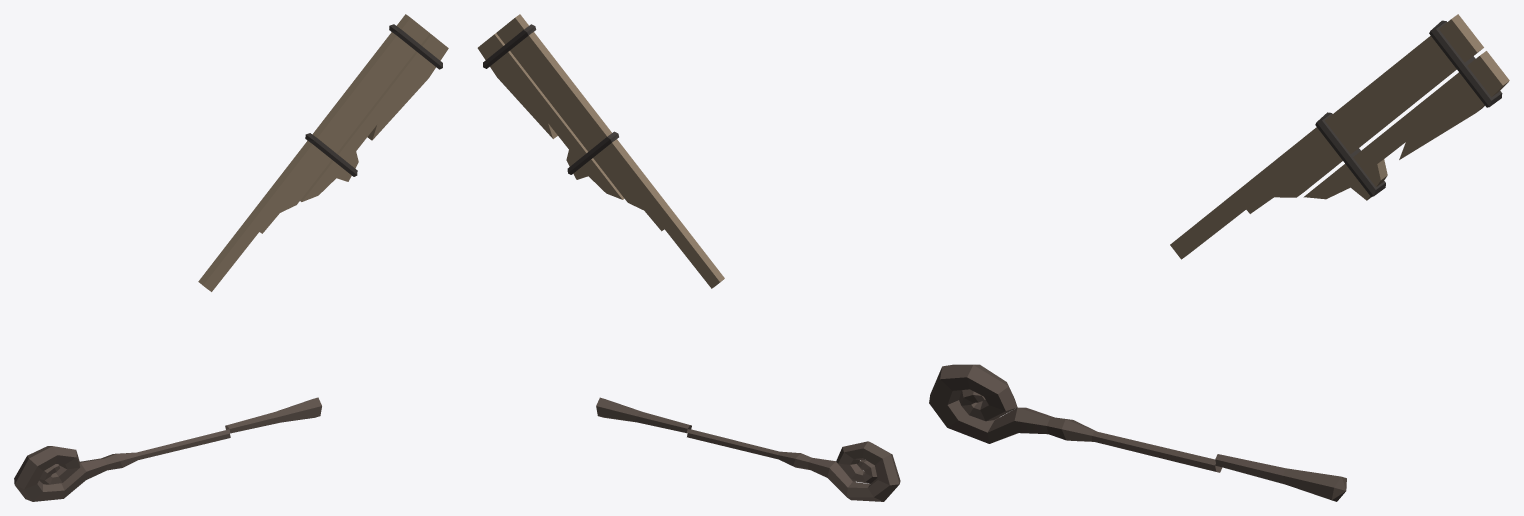
File: BrokenPlank.fbx
3 views of the same model, side by side, from view 1: azimuth 30°, elevation 25°; view 2: azimuth 150°, elevation 25°; view 3: azimuth 330°, elevation 25° (orthographic). The views are drawn at different scales.
Parts seen in each view (by area): view 1: BrokenPlank, break, break2; view 2: BrokenPlank, break, break2; view 3: BrokenPlank, break, break2.
Boxes of the visible parts, x1,y1,x2,y2 form: BrokenPlank: (198, 14, 448, 291); break: (14, 430, 230, 501); break2: (225, 397, 321, 433); BrokenPlank: (477, 14, 724, 288); break: (687, 429, 900, 501); break2: (596, 397, 691, 433); BrokenPlank: (1170, 14, 1509, 259); break: (929, 364, 1222, 472); break2: (1215, 454, 1346, 501).
Size of the model in its own units: 2.34 by 2.1 by 0.1474.
